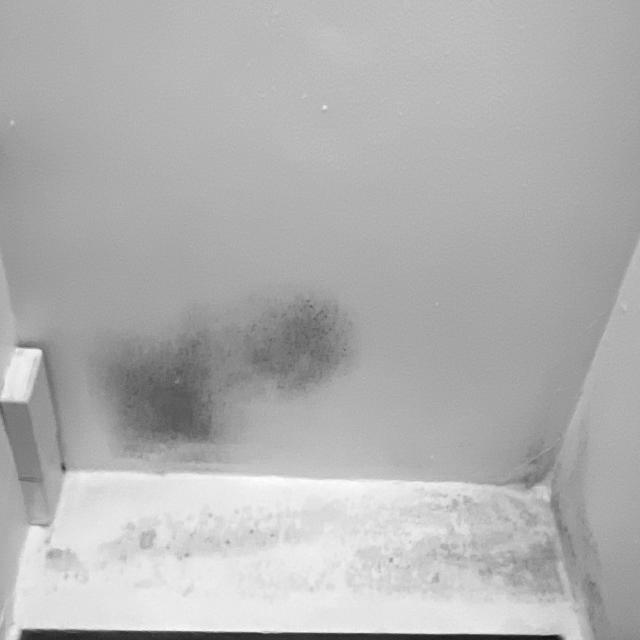stain marks: (350, 388, 618, 640), (82, 274, 360, 476), (36, 486, 346, 616)
